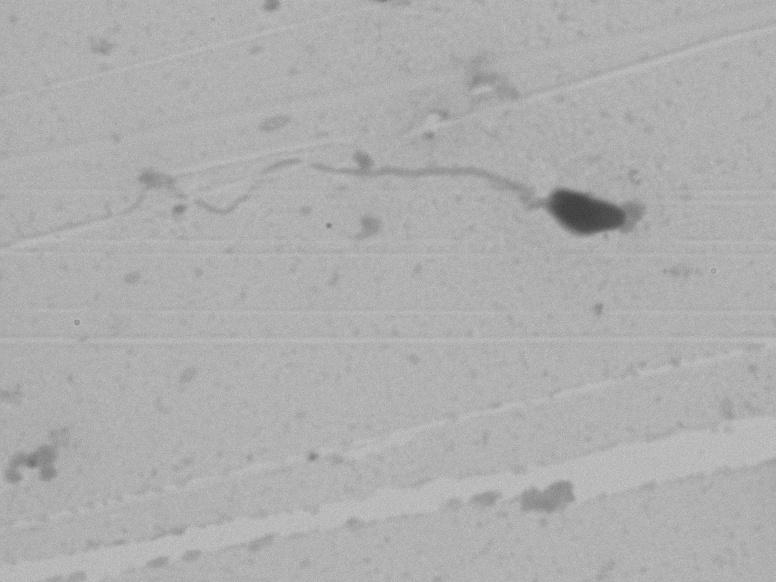Abnormal: (159, 121, 676, 278)
